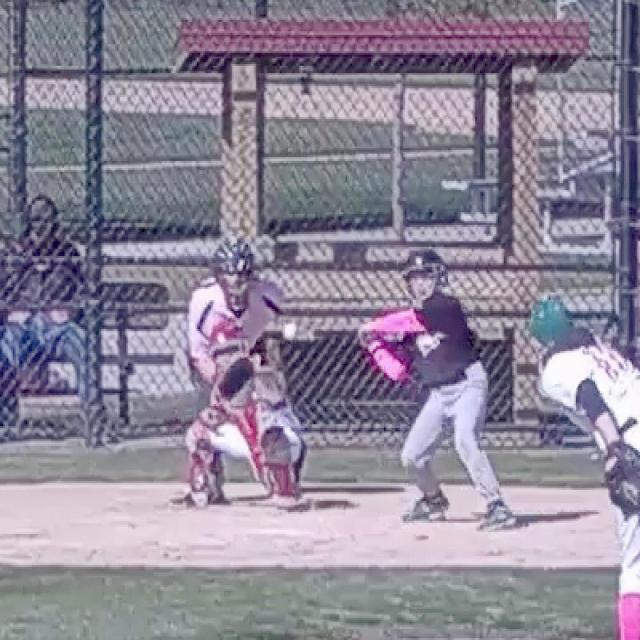baseball: (284, 323, 296, 338)
